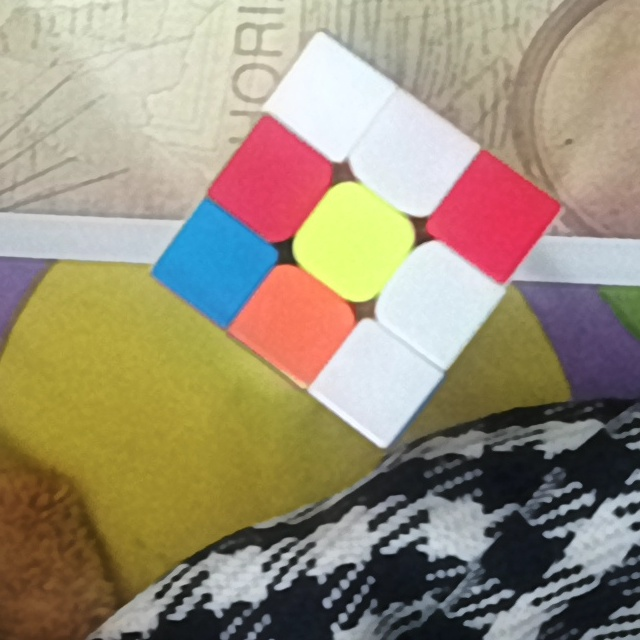tile: (344, 342, 415, 415), (400, 268, 471, 337), (316, 210, 392, 273), (241, 144, 314, 209), (378, 126, 448, 192), (459, 185, 531, 249), (261, 293, 334, 356), (179, 233, 246, 295), (296, 69, 360, 128)
